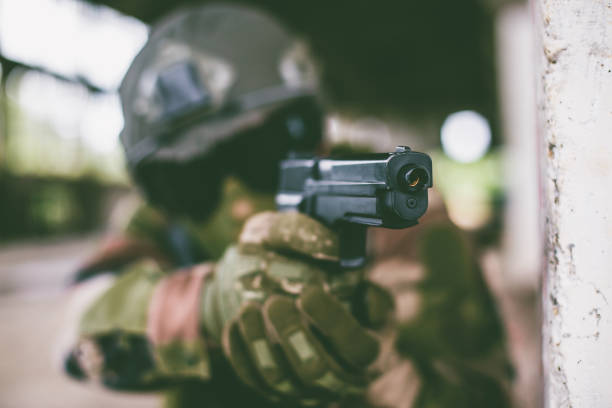gun: (274, 144, 434, 270)
